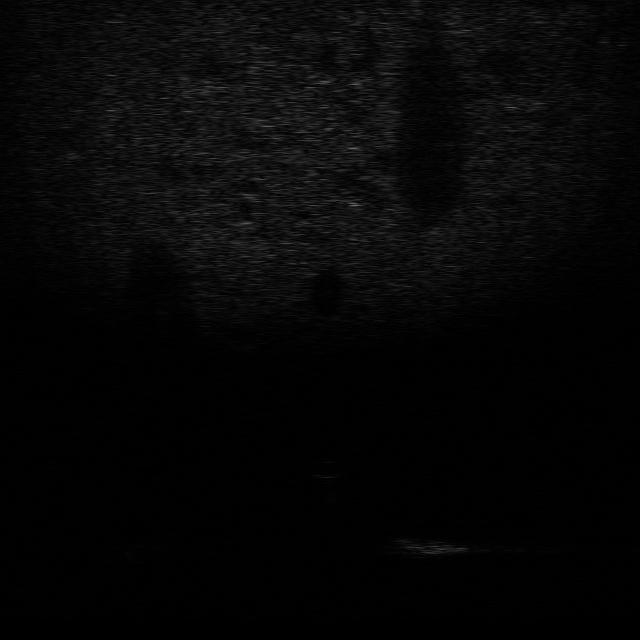ball: (304, 456, 348, 481)
metal bucket: (382, 530, 480, 563)
tyre: (121, 538, 170, 567)
